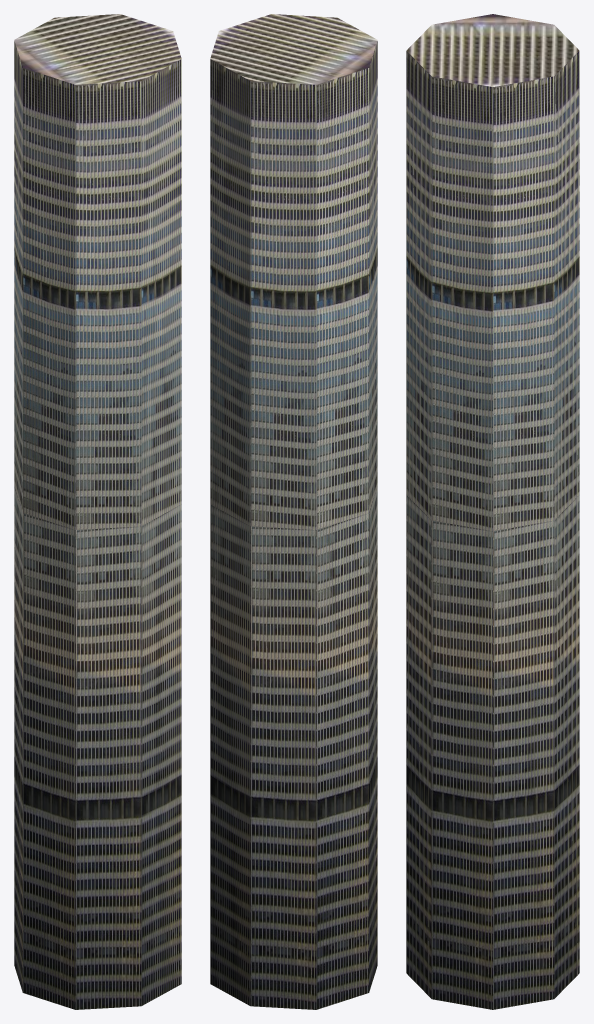
File: lic_tower_stone.glb
3 renders of one model, left to right at view 1: azimuth 30°, elevation 25°; view 2: azimuth 150°, elevation 25°; view 3: azimuth 270°, elevation 25°, orthographic.
Parts seen in each view (by area): view 1: building; view 2: building; view 3: building.
Part boxes in pixels (x1=…): building: x1=14, y1=14, x2=181, y2=1009; building: x1=210, y1=14, x2=377, y2=1009; building: x1=406, y1=14, x2=579, y2=1009.
Size of the model in its own units: 25.5 by 150 by 25.5.
Materials: 1 (1 with a texture image).
